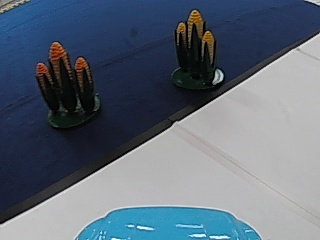corn: (35, 38, 102, 129), (171, 6, 223, 89)
